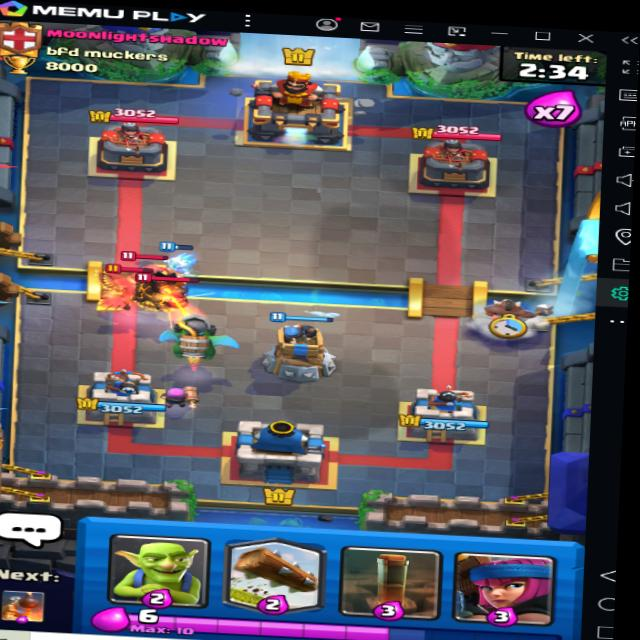lava-hound: (123, 269, 209, 318)
phoenix: (87, 261, 191, 312)
